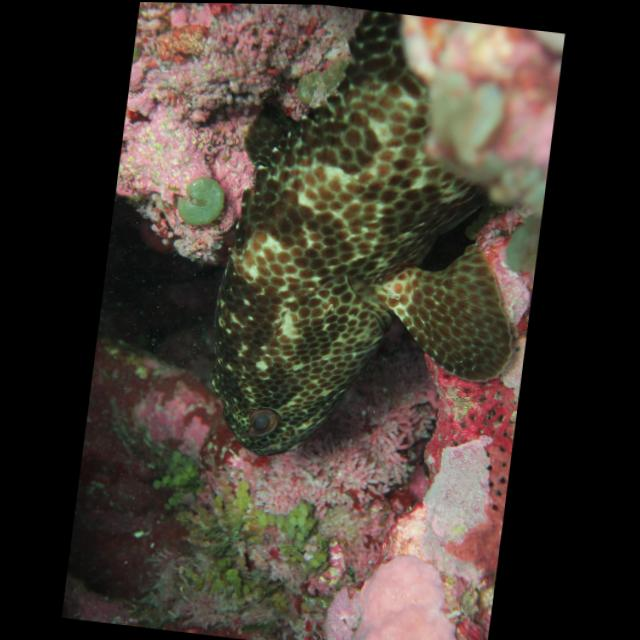Groupers: (193, 3, 553, 486)
